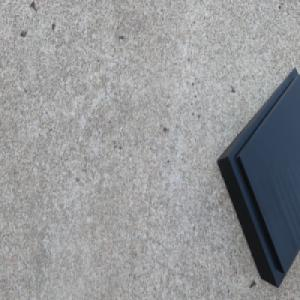PlasticPart: (215, 64, 300, 288)
